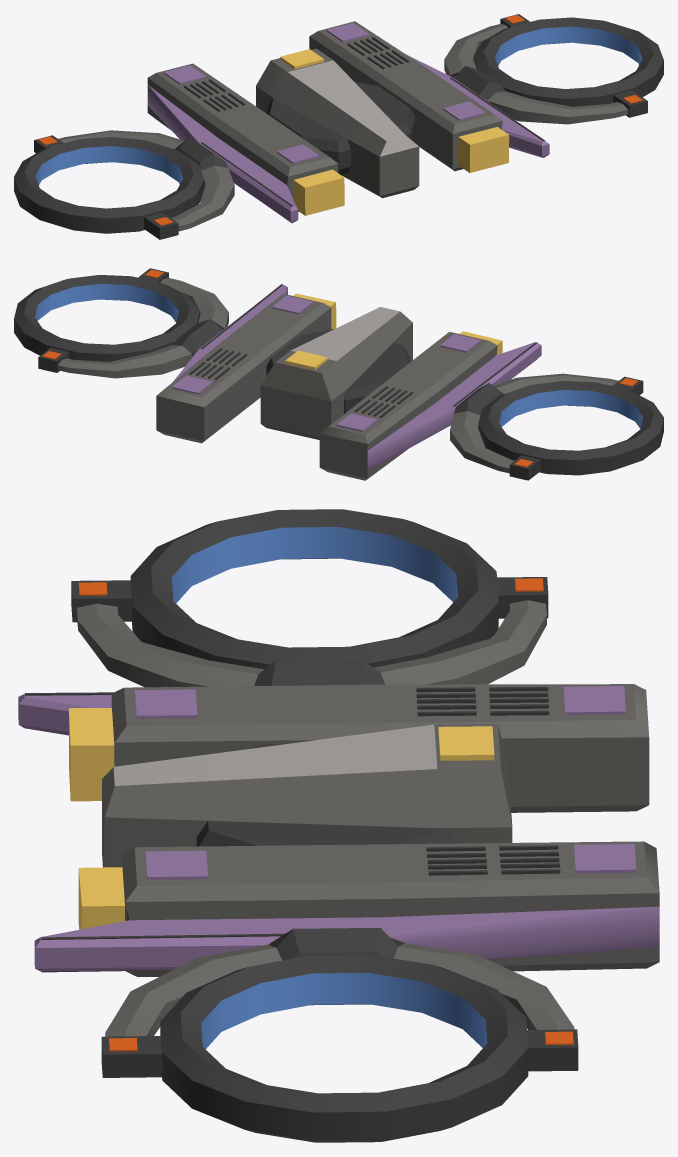
The model's file is Spaceship_2.fbx.
The picture shows the model from 3 angles, top to bottom: view 1: azimuth 30°, elevation 25°; view 2: azimuth 150°, elevation 25°; view 3: azimuth 270°, elevation 25°; orthographic projection. The views are drawn at different scales.
Parts seen in each view (by area): view 1: Spaceship_2; view 2: Spaceship_2; view 3: Spaceship_2.
Part boxes in pixels (bbox=[...]): Spaceship_2: bbox=[14, 14, 663, 239]; Spaceship_2: bbox=[14, 268, 663, 480]; Spaceship_2: bbox=[18, 509, 659, 1142].
Size of the model in its own units: 830 by 374 by 88.51.
